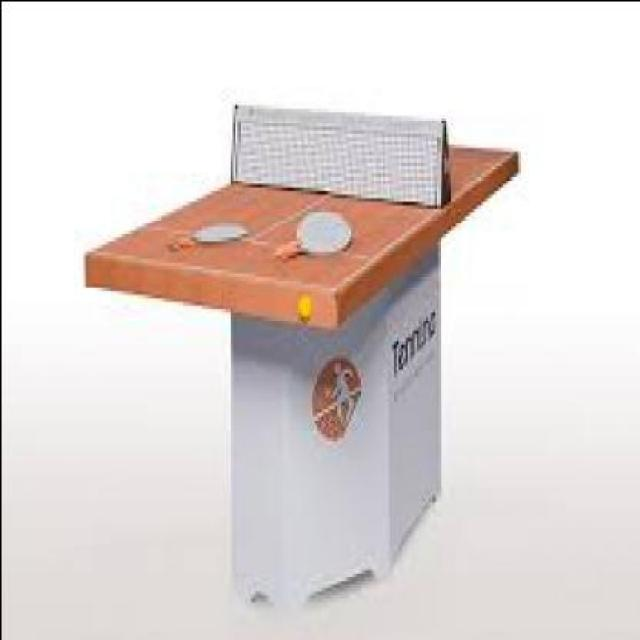CARDBOARD: (77, 103, 517, 329), (227, 233, 436, 590)
